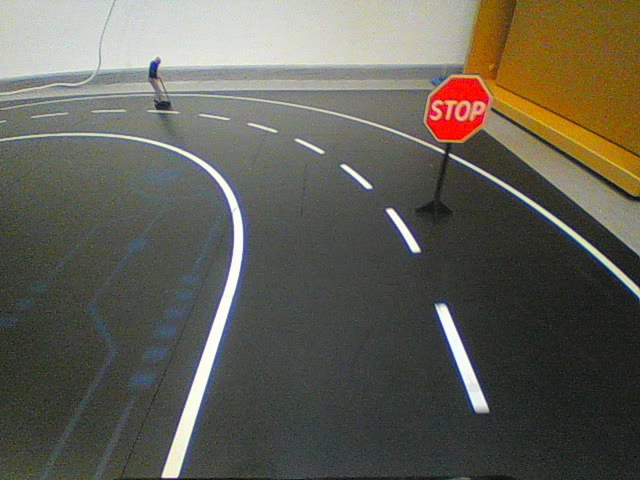Stop: (420, 64, 497, 148)
